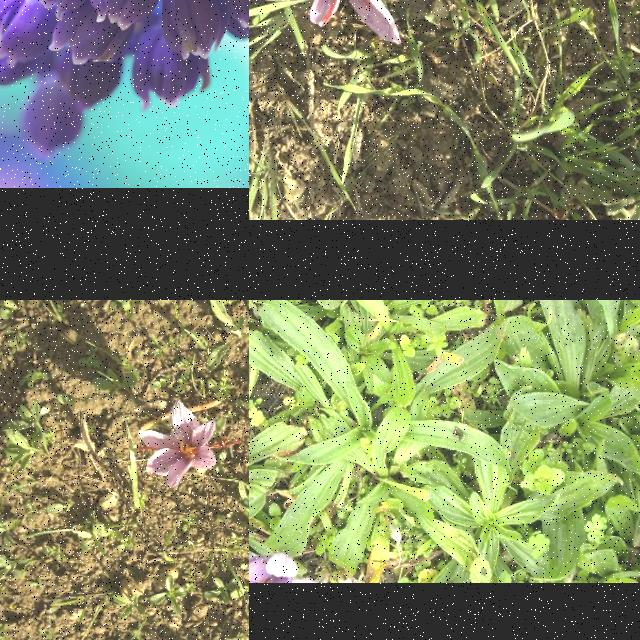flower: (137, 400, 241, 488), (249, 0, 401, 44), (249, 552, 319, 583)
